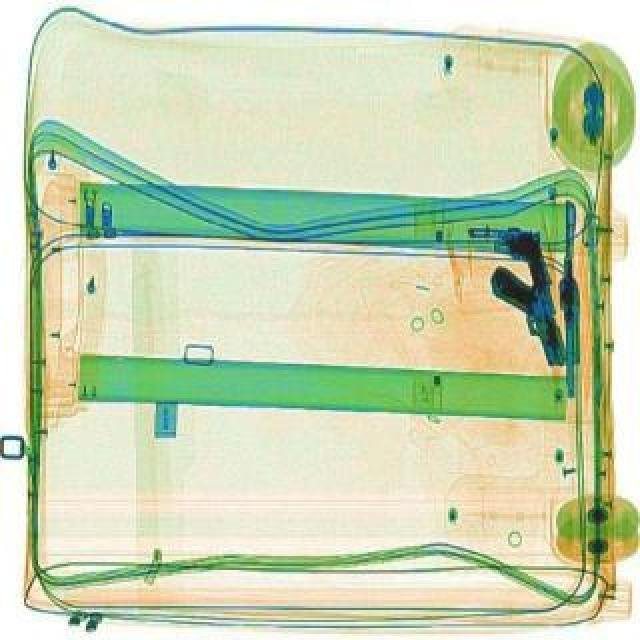gun: (474, 220, 584, 384), (490, 254, 574, 370), (556, 198, 592, 398)
